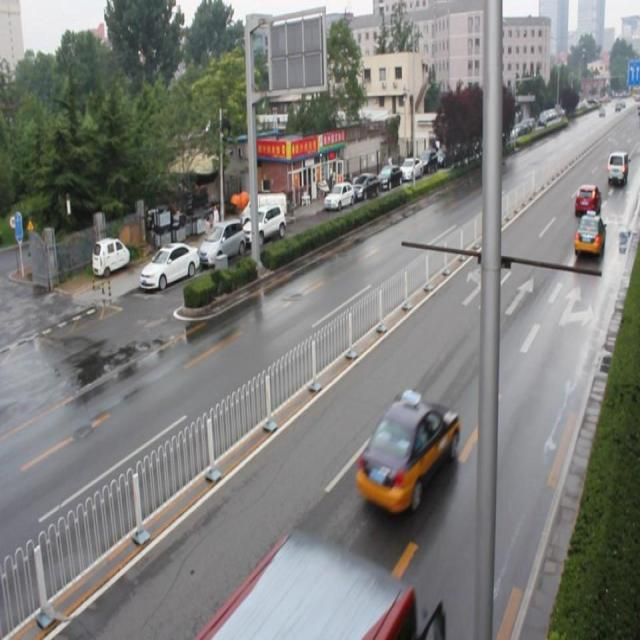car: (356, 387, 458, 509), (572, 208, 602, 260), (573, 184, 599, 214)
van: (194, 527, 432, 633)
